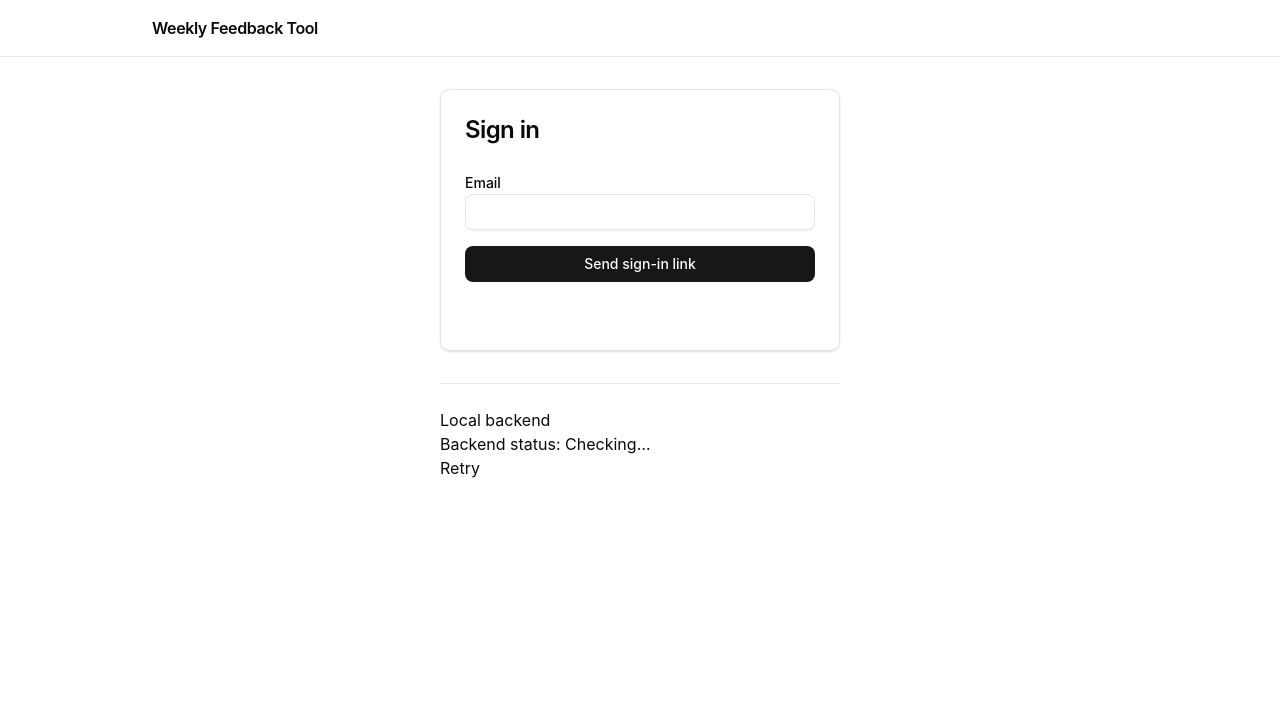
Test case: LoginPage › shows an inline error and sends nothing for
This screenshot has width=1280, height=720.
Click the button "Send sign-in link" at (640, 264), box [465,246,815,282]
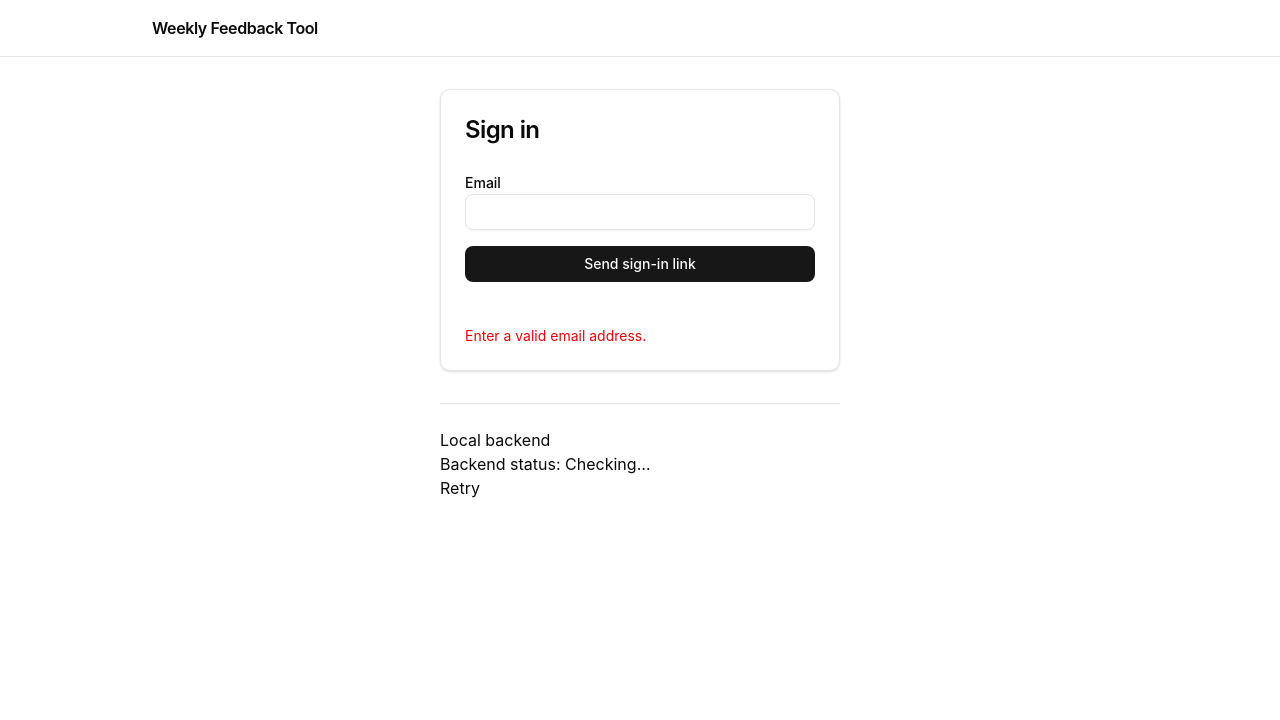
Expected: the message with id "login-error" reads "Enter a valid email address.", [465,327,646,344]
